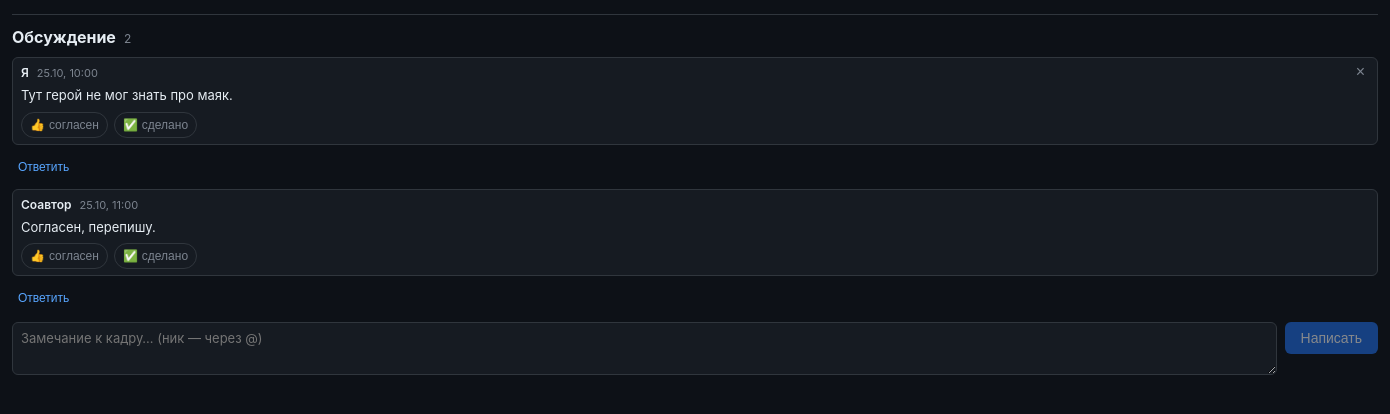
Scenario: FrameComments › ошибка отправки объясняется словами и не теряет текст
Expected: the text "Согласен, перепишу." is shown, [21, 218, 156, 234]
In the text box named "Новый комментарий": (644, 348) [12, 322, 1276, 375], type "Замечание, которое не уйдёт."
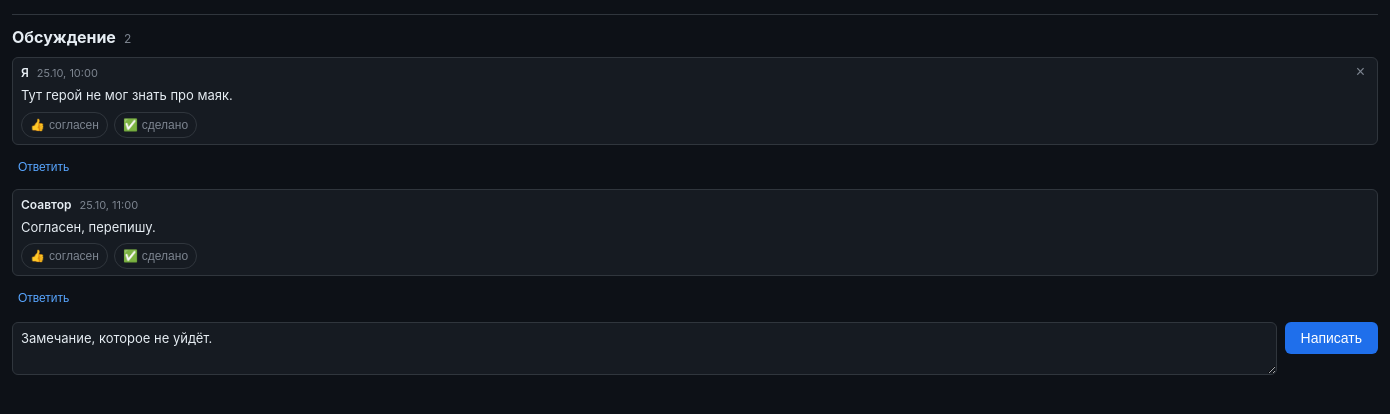
Click the button "Написать": (1331, 338) [1284, 322, 1378, 354]
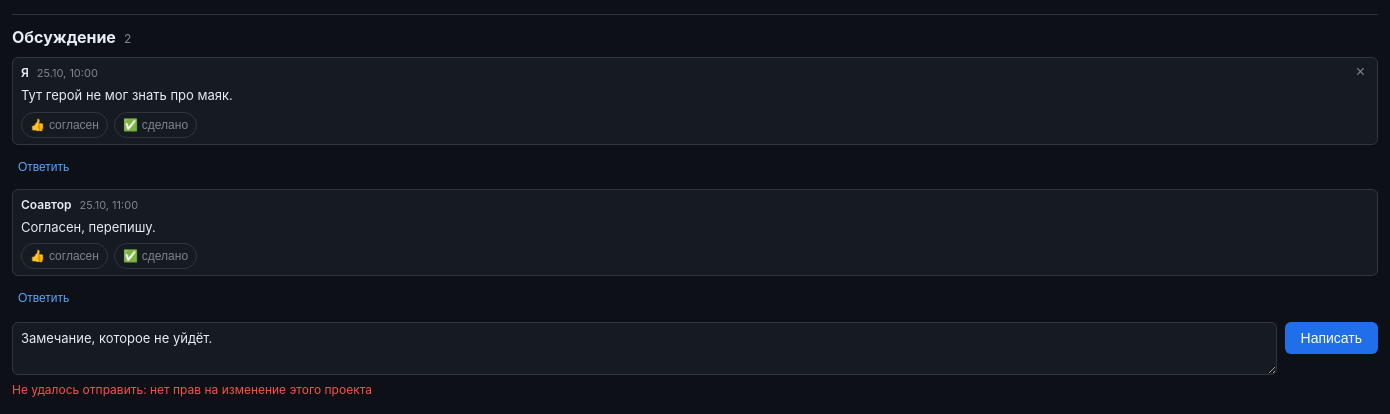
Now the text "Не удалось отправить: нет прав на изменение этого проекта" is shown, box [12, 382, 372, 397]
